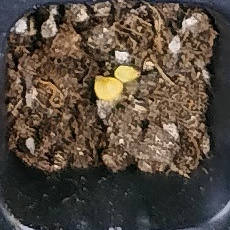pepper seed: (31, 24, 156, 125), (44, 23, 185, 107)
